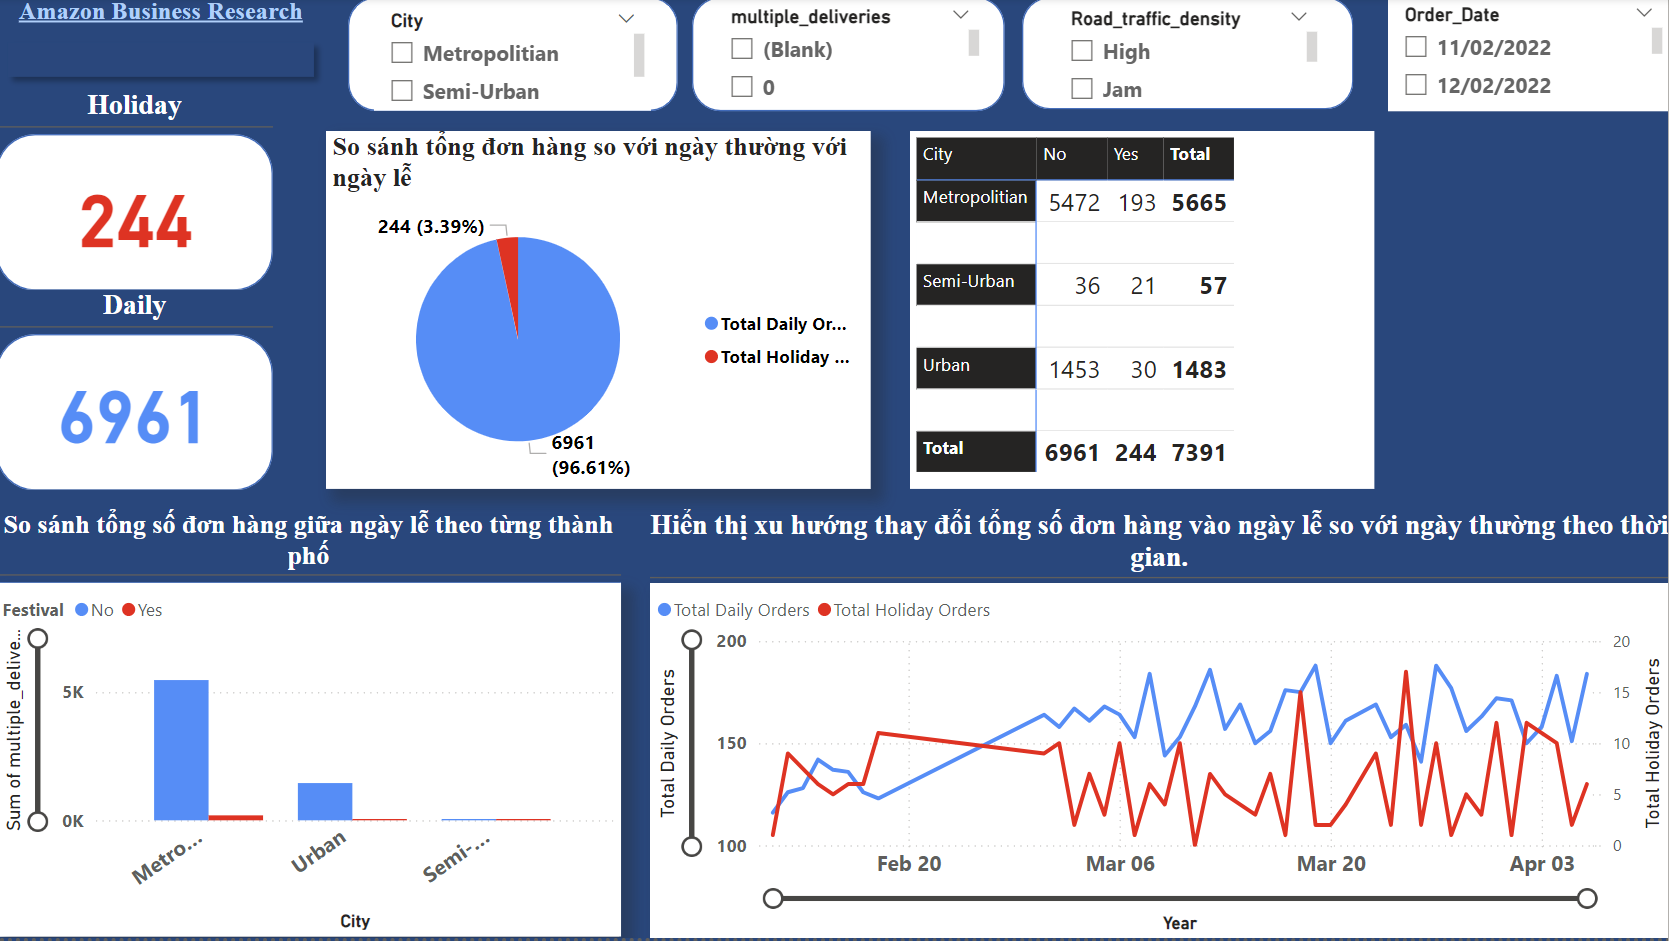

The page's visual inventory and layout, read from the dashboard file:
{"tool":"powerbi","page":{"name":"Festival City","canvas":[1280,720],"ordinal":2},"visuals":[{"type":"shape","title":"Amazon Business Research","box":[0,0,252.4,70],"z":0},{"type":"shape","box":[269.7,0,252.6,87.3],"z":1000},{"type":"shape","title":"Holiday","box":[0,69.7,211.9,153.4],"z":2000},{"type":"shape","box":[533.2,0,239.4,87.4],"z":3000},{"type":"slicer","fields":{"Values":["Order Information.City"]},"box":[290,4.7,212,82.6],"z":4000},{"type":"slicer","fields":{"Values":["Delivery Information.multiple_deliveries"]},"box":[549,1.4,207.8,83.1],"z":5000},{"type":"shape","box":[785.5,0,253.7,86],"z":6000},{"type":"shape","title":"Daily","box":[0,223.1,211.9,153.4],"z":7000},{"type":"card","fields":{"Values":["Order Information.Total_Holiday_Orders"]},"box":[18.1,118.5,177.1,93.4],"z":8000},{"type":"card","fields":{"Values":["Order Information.Total_Daily_Orders"]},"box":[26.5,269.1,159,90.6],"z":9000},{"type":"shape","title":"So sánh tổng số đơn hàng giữa ngày lễ theo từng thành phố","box":[0,391.8,478.3,327.7],"z":10000},{"type":"shape","title":"Hiển thị xu hướng thay đổi tổng số đơn hàng vào ngày lễ so với ngày thường theo thời gian.","box":[500.2,391.3,779.8,331.1],"z":11000},{"type":"slicer","fields":{"Values":["Order Information.Road_traffic_density"]},"box":[809.9,2.9,206.4,80.3],"z":12000},{"type":"clusteredColumnChart","fields":{"Category":["Order Information.City"],"Y":["Sum(Delivery Information.multiple_deliveries)"],"Series":["Order Information.Festival"]},"box":[0,449,478.3,270.5],"z":13000},{"type":"lineChart","fields":{"Y":["Order Information.Total_Daily_Orders"],"Category":["Order Information.Order_Date.Variation.Date Hierarchy.Year","Order Information.Order_Date.Variation.Date Hierarchy.Quarter","Order Information.Order_Date.Variation.Date Hierarchy.Month","Order Information.Order_Date.Variation.Date Hierarchy.Day"],"Y2":["Order Information.Total_Holiday_Orders"]},"box":[500.2,448.6,779.8,272.3],"z":14000},{"type":"pieChart","title":"So sánh tổng đơn hàng so với ngày thường với ngày lễ","fields":{"Y":["Order Information.Total_Daily_Orders","Order Information.Total_Holiday_Orders"]},"box":[252.3,103.2,417.1,273.8],"z":15000},{"type":"pivotTable","fields":{"Rows":["Order Information.City"],"Columns":["Order Information.Festival"],"Values":["Sum(Delivery Information.multiple_deliveries)"]},"box":[699.5,103.2,355.5,273.8],"z":16000},{"type":"slicer","fields":{"Values":["Order Information.Order_Date"]},"box":[1065,0,215,87.4],"z":17000}]}

Visuals, with their boxes in screenshot pixels (x1, y1, x2, y2), scaled from the page's 1280x720 canvas onto the 1669x941 screenshot:
"Amazon Business Research" shape: x1=0, y1=0, x2=329, y2=91
shape: x1=352, y1=0, x2=681, y2=114
"Holiday" shape: x1=0, y1=91, x2=276, y2=292
shape: x1=695, y1=0, x2=1007, y2=114
slicer - Order Information.City: x1=378, y1=6, x2=655, y2=114
slicer - Delivery Information.multiple_deliveries: x1=716, y1=2, x2=987, y2=110
shape: x1=1024, y1=0, x2=1355, y2=112
"Daily" shape: x1=0, y1=292, x2=276, y2=492
card - Order Information.Total_Holiday_Orders: x1=24, y1=155, x2=255, y2=277
card - Order Information.Total_Daily_Orders: x1=35, y1=352, x2=242, y2=470
"So sánh tổng số đơn hàng giữa ngày lễ theo từng thành phố" shape: x1=0, y1=512, x2=624, y2=940
"Hiển thị xu hướng thay đổi tổng số đơn hàng vào ngày lễ so với ngày thường theo thời gian." shape: x1=652, y1=511, x2=1668, y2=940
slicer - Order Information.Road_traffic_density: x1=1056, y1=4, x2=1325, y2=109
clusteredColumnChart - Order Information.City x Sum(Delivery Information.multiple_deliveries): x1=0, y1=587, x2=624, y2=940
lineChart - Order Information.Total_Daily_Orders x Order Information.Order_Date.Variation.Date Hierarchy.Year: x1=652, y1=586, x2=1668, y2=940
"So sánh tổng đơn hàng so với ngày thường với ngày lễ" pieChart: x1=329, y1=135, x2=873, y2=493
pivotTable - Order Information.City x Order Information.Festival: x1=912, y1=135, x2=1376, y2=493
slicer - Order Information.Order_Date: x1=1389, y1=0, x2=1668, y2=114
